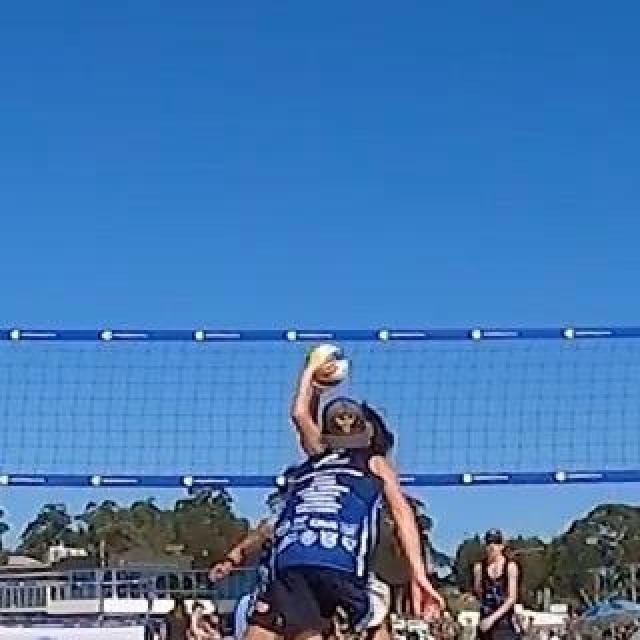volleyball: (307, 346, 345, 386)
